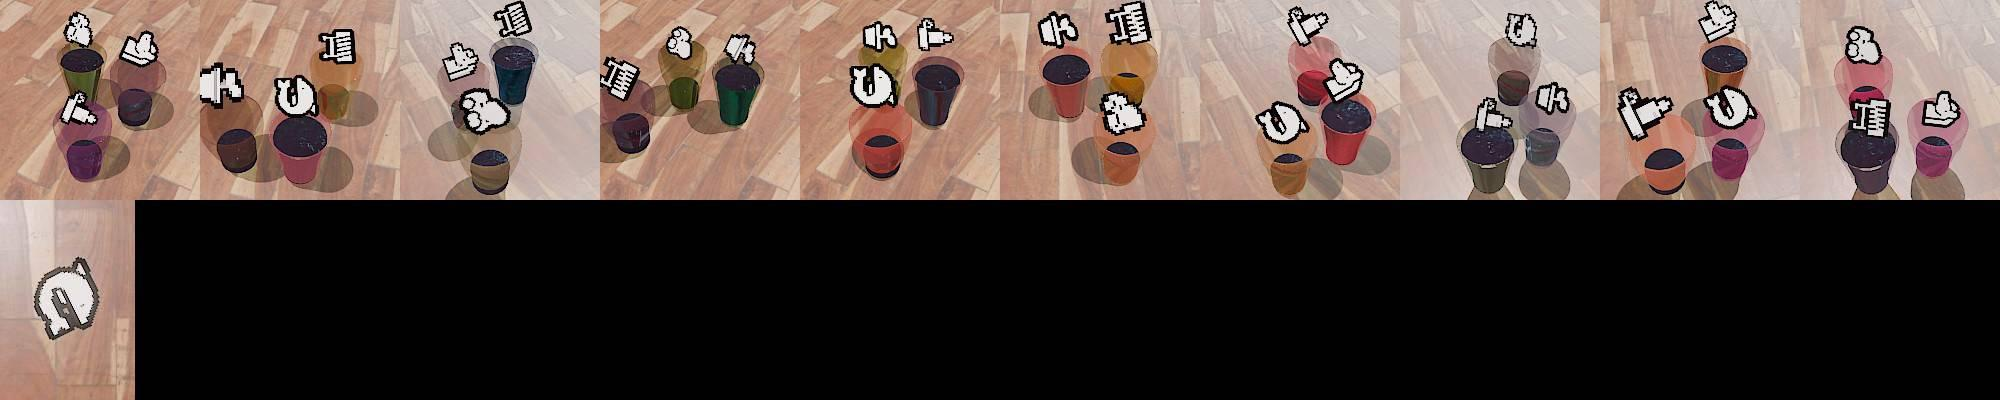icon: (32, 256, 102, 340), (1619, 87, 1675, 141), (1254, 98, 1309, 144), (1703, 84, 1758, 130), (460, 87, 511, 135), (198, 61, 246, 110), (848, 61, 897, 108), (1098, 89, 1148, 135), (1103, 0, 1152, 46), (272, 73, 320, 117), (1321, 57, 1365, 104), (1851, 94, 1892, 141), (599, 55, 640, 102), (1287, 5, 1330, 47), (1698, 0, 1739, 42), (1473, 93, 1514, 134), (440, 41, 480, 83), (117, 29, 159, 68), (494, 0, 533, 39), (915, 15, 955, 54), (1921, 89, 1962, 126), (1038, 10, 1079, 47), (1844, 25, 1880, 65), (318, 29, 357, 65), (59, 92, 99, 125), (1534, 80, 1570, 116), (1504, 11, 1538, 48), (861, 18, 898, 52), (723, 32, 758, 66), (663, 25, 695, 60), (62, 11, 93, 47)
